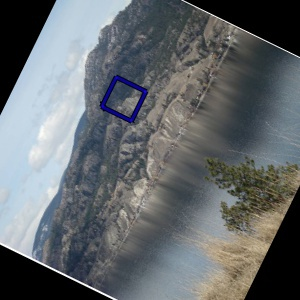square: (98, 73, 150, 126)
